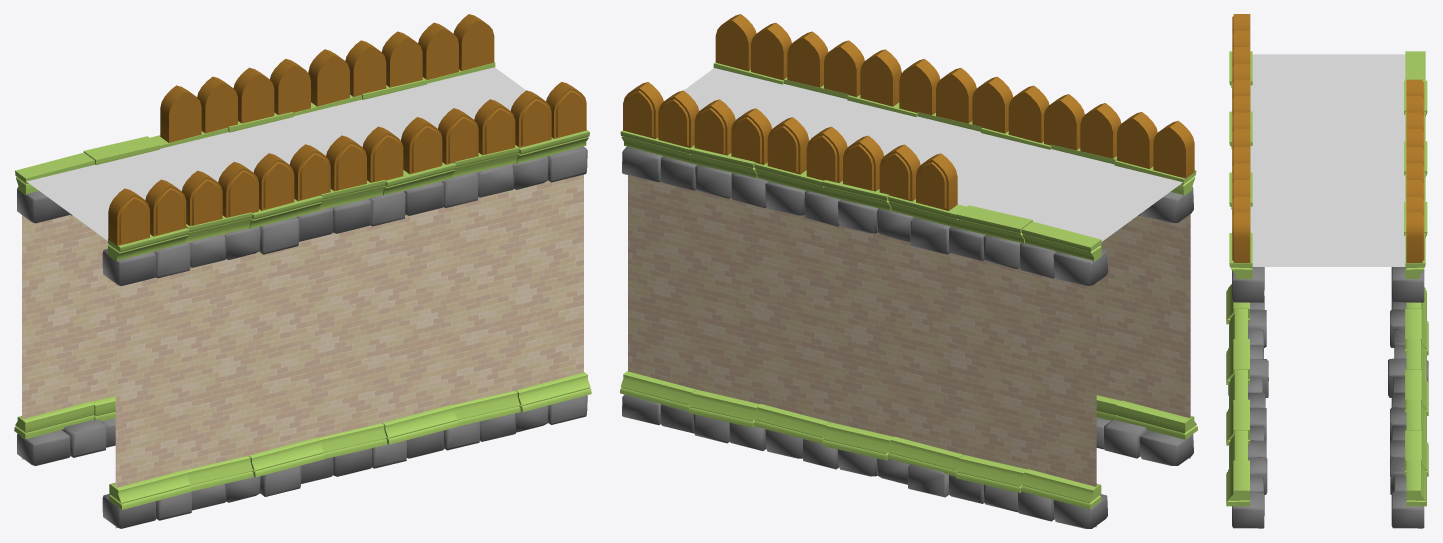
Rendered from SM_wall_castle_02.fbx.
3 views of the same model, side by side, from view 1: azimuth 30°, elevation 25°; view 2: azimuth 150°, elevation 25°; view 3: azimuth 270°, elevation 25° (orthographic). The views are drawn at different scales.
Visible parts, largest first — view 1: Box441; view 2: Box441; view 3: Box441.
Part boxes in pixels (box(x1,y1,x2,y2)): Box441: box(14, 14, 591, 528); Box441: box(620, 14, 1197, 528); Box441: box(1226, 14, 1428, 528).
Bounding box in the file's own units: 546 × 368 × 218.
